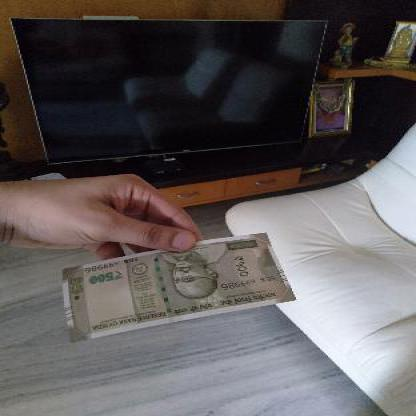New500Front: (53, 244, 304, 342)
